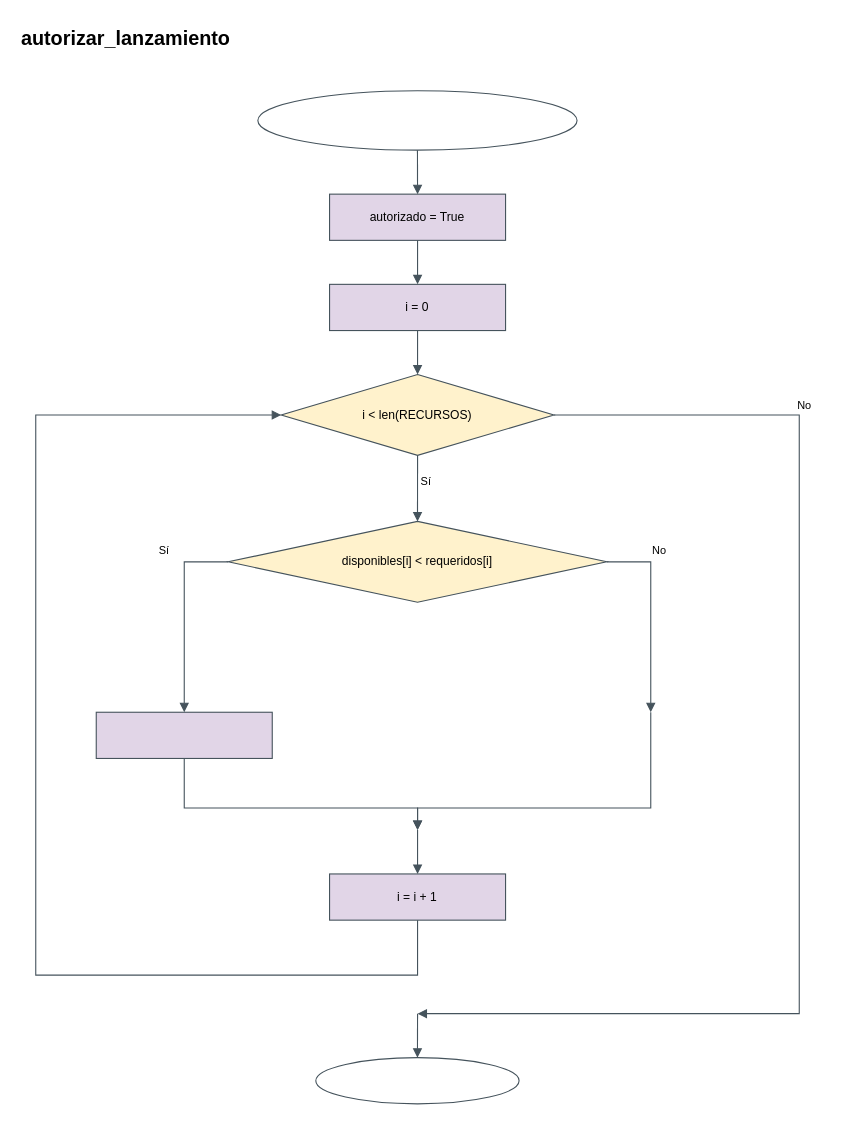
The diagram is 842 pixels wide and 1123 high, and some of its shapes have lost their labels. The shapes that lost their labels are listed below. From the top down, each one's centre as x and y in pixels, then its label:
At point 417,120: "Inicio autorizar_lanzamiento(disponibles, requeridos)".
At point 183,734: "autorizado = False".
At point 417,1080: "Fin: devolver autorizado".
